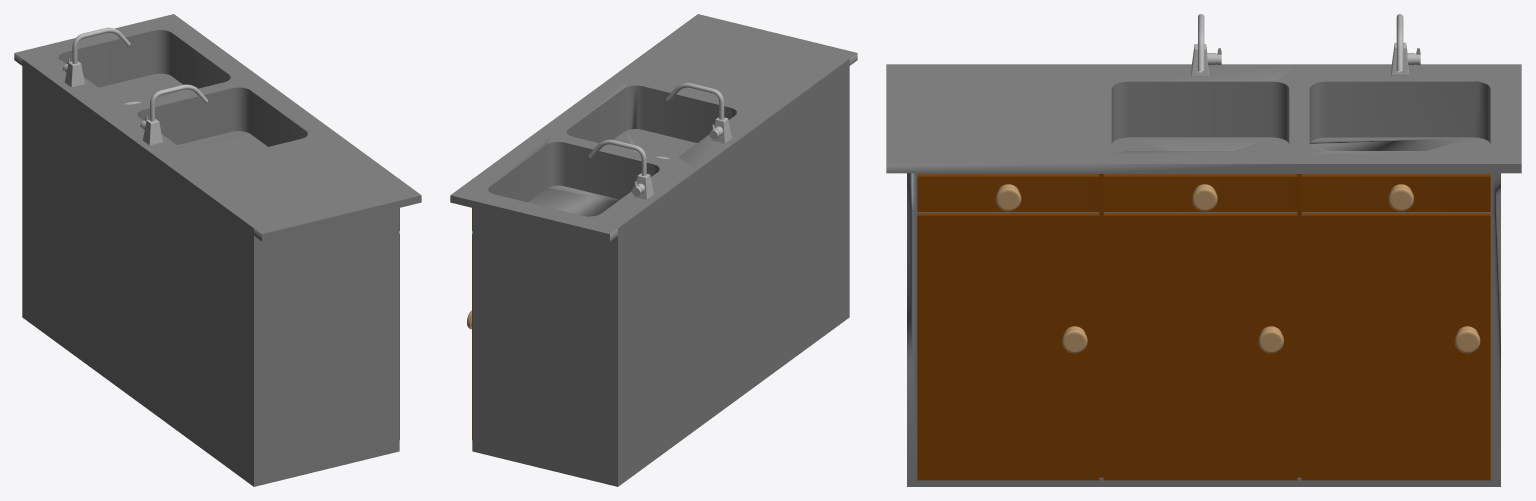
File: Fregadero.fbx
The picture shows the model from 3 angles, left to right: view 1: azimuth 30°, elevation 25°; view 2: azimuth 150°, elevation 25°; view 3: azimuth 270°, elevation 25°; orthographic projection. The views are drawn at different scales.
Visible parts, largest first — view 1: Mueble.001, Vert.003, Vert.002; view 2: Mueble.001, Vert.002, Vert.003; view 3: Mueble.001, Manijas_abajo.001, Manijas_arriba.001.
Boxes of the visible parts, bbox=[...] form: Mueble.001: bbox=[14, 14, 421, 486]; Vert.003: bbox=[72, 27, 130, 63]; Vert.002: bbox=[150, 84, 207, 121]; Mueble.001: bbox=[450, 14, 857, 486]; Vert.002: bbox=[666, 83, 724, 119]; Vert.003: bbox=[588, 139, 646, 175]; Mueble.001: bbox=[886, 64, 1521, 486]; Manijas_abajo.001: bbox=[1061, 326, 1480, 353]; Manijas_arriba.001: bbox=[995, 184, 1413, 211].
Bounding box in the file's own units: 115 × 211 × 309.
